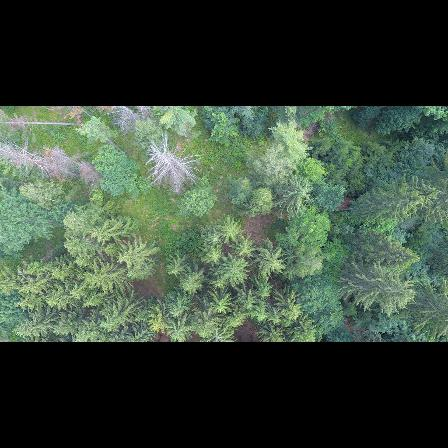Dead: (140, 136, 202, 195), (0, 142, 100, 176), (109, 106, 147, 132)
